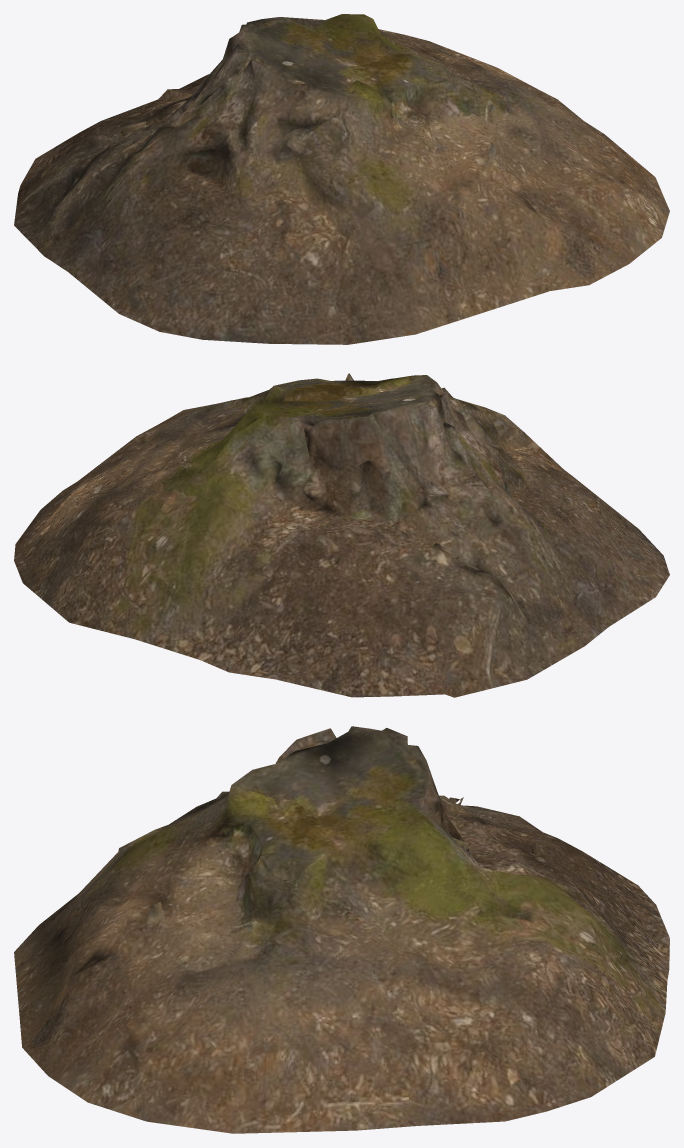
The model's file is tree_stump_02.glb.
The picture shows the model from 3 angles, top to bottom: view 1: azimuth 30°, elevation 25°; view 2: azimuth 150°, elevation 25°; view 3: azimuth 270°, elevation 25°; orthographic projection. The views are drawn at different scales.
Parts seen in each view (by area): view 1: tree_stump_02; view 2: tree_stump_02; view 3: tree_stump_02.
Part boxes in pixels (x1=…): tree_stump_02: x1=14, y1=14, x2=669, y2=344; tree_stump_02: x1=14, y1=373, x2=669, y2=697; tree_stump_02: x1=14, y1=726, x2=669, y2=1133.
Bounding box in the file's own units: 1.52 × 0.5184 × 1.39.
Materials: 1 (1 with a texture image).
